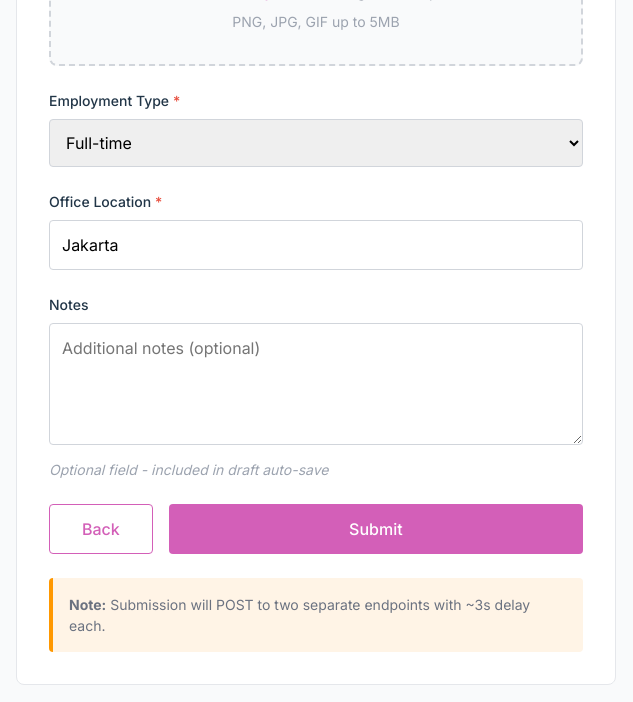
Test: Step2 Component › should show progress indicator during submission
The image size is (633, 702).
(page scrolled)
Click the button "Submit" at point(376, 528), box [169, 504, 583, 554]
(page scrolled)
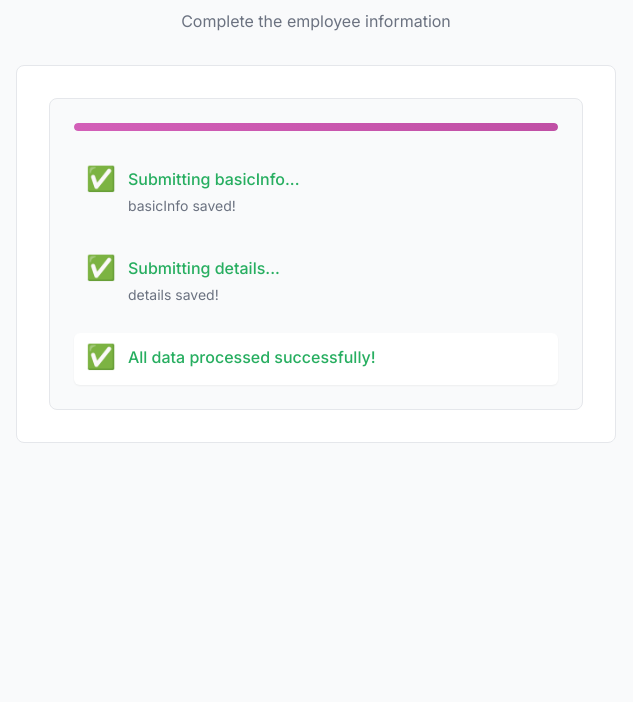
Expected: the text "Submitting basicInfo..." is shown, [128, 168, 300, 188]
